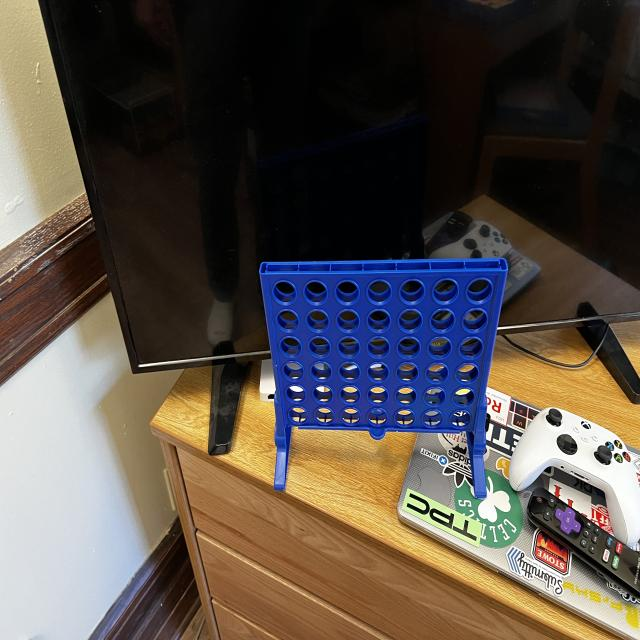Board: (259, 258, 502, 438)
No Piece: (430, 276, 460, 307), (464, 276, 495, 306), (398, 276, 426, 307), (270, 278, 297, 309), (366, 276, 392, 307), (302, 277, 329, 306), (334, 278, 361, 307), (397, 306, 424, 335), (364, 307, 392, 334), (461, 307, 488, 334), (274, 307, 300, 335), (333, 308, 361, 334), (304, 308, 331, 334), (306, 335, 333, 361), (429, 308, 456, 334), (427, 335, 454, 361), (458, 335, 484, 362), (395, 336, 423, 360), (423, 360, 451, 384), (278, 334, 304, 359), (365, 360, 390, 386), (394, 361, 420, 386), (454, 361, 480, 386), (335, 335, 362, 359), (337, 359, 362, 384), (366, 335, 391, 360), (365, 383, 390, 408), (450, 385, 477, 408), (281, 359, 306, 383), (422, 385, 447, 409), (448, 407, 473, 431), (282, 382, 308, 404), (310, 381, 334, 404), (312, 404, 335, 428), (393, 385, 418, 407), (309, 360, 333, 382), (364, 407, 389, 428), (339, 404, 361, 426), (394, 406, 416, 428), (286, 405, 309, 426), (421, 408, 444, 429), (338, 385, 361, 405)
